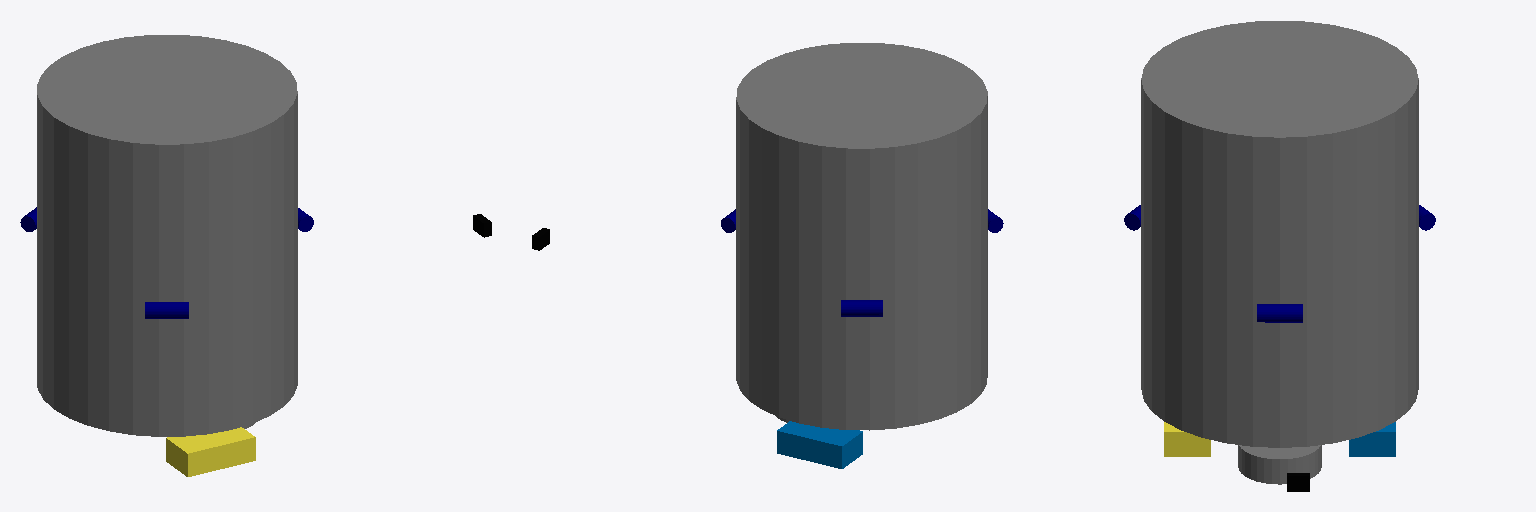
URDF robot description (cepheus):
<?xml version="1.0"?>
<robot name="cepheus">
 

  <link name="cepheus">
    <visual>
      <material name="silver"> <color rgba="0.5 0.5 0.5 1"/> </material>
      <geometry>
        <cylinder length="0.37" radius="0.15"/>
      </geometry>
      <origin xyz="0 0 0.245" rpy="0 0 0"/>
    </visual>
  </link>

  <link name="reaction_wheel">
    <visual>
      <material name="silver"> <color rgba="0.5 0.5 0.5 1"/> </material>
      <geometry>
        <cylinder length="0.03" radius="0.045"/>
      </geometry>
      <origin xyz="0 0 0.015" rpy="0 0 0"/>
    </visual>
  </link>

  <link name="camera">
    <visual>
      <material name="black"> <color rgba="0.02 0.02 0.02 1"/> </material>
      <geometry>
        <box size="0.018 0.0254 0.01 "/>
      </geometry>
      <origin xyz="0 0 -0.005" rpy="0 0 0"/>
    </visual>
  </link>

  <link name="right_mouse">
    <visual>
      <geometry>
        <box size="0.09 .05 .03"/>
      </geometry>
      <origin xyz="0 0 0.015" rpy="0 0 0"/>
    </visual>
    <inertial>
      <origin xyz="0 0 0.015" rpy="0 0 0"/>
      <mass value="15"/>
      <inertia ixx="0.04" ixy="0.0" ixz="0.0" iyy="0.04" iyz="0.0" izz="0.02"/>
    </inertial>
  </link>

  <link name="left_mouse">
    <visual>
      <geometry>
        <box size="0.09 .05 .03"/>
      </geometry>
      <origin xyz="0 0 0.015" rpy="0 0 0"/>
    </visual>
    <inertial>
      <origin xyz="0 0 0.015" rpy="0 0 0"/>
      <mass value="15"/>
      <inertia ixx="0.04" ixy="0.0" ixz="0.0" iyy="0.04" iyz="0.0" izz="0.02"/>
    </inertial>
  </link>

  <link name="T1">
    <visual>
      <material name="thruster"> <color rgba="0 0 0.5 1"/> </material>
      <geometry>
        <cylinder length="0.05" radius="0.01"/>
      </geometry>
      <origin xyz="0 0 0" rpy="0 1.57 0"/>
    </visual>
    <inertial>
      <origin xyz="0 0 0" rpy="0 0 0"/>
      <mass value="1"/>
      <inertia ixx="0.004" ixy="0.0" ixz="0.0" iyy="0.004" iyz="0.0" izz="0.002"/>
    </inertial>
  </link>

  <link name="T2">
    <visual>
      <material name="thruster"> <color rgba="0 0 0.5 1"/> </material>
      <geometry>
        <cylinder length="0.05" radius="0.01"/>
      </geometry>
      <origin xyz="0 0 0" rpy="0 1.57 0"/>
    </visual>
    <inertial>
      <origin xyz="0 0 0" rpy="0 0 0"/>
      <mass value="1"/>
      <inertia ixx="0.004" ixy="0.0" ixz="0.0" iyy="0.004" iyz="0.0" izz="0.002"/>
    </inertial>
  </link>

  <link name="T3">
    <visual>
      <material name="thruster"> <color rgba="0 0 0.5 1"/> </material>
      <geometry>
        <cylinder length="0.05" radius="0.01"/>
      </geometry>
      <origin xyz="0 0 0" rpy="0 1.57 0"/>
    </visual>
    <inertial>
      <origin xyz="0 0 0" rpy="0 0 0"/>
      <mass value="1"/>
      <inertia ixx="0.004" ixy="0.0" ixz="0.0" iyy="0.004" iyz="0.0" izz="0.002"/>
    </inertial>
  </link>



  <joint name="reaction_wheel_joint" type="continuous">
    <parent link="cepheus"/>
    <child link="reaction_wheel"/>
    <origin xyz="0.07 0 0" rpy="0 0 0"/>
    <axis xyz="0 0 1" /> 
    <!--limit effort="10" velocity="200.5"/-->
  </joint>

  <joint name="camera_joint" type="fixed">
    <parent link="cepheus"/>
    <child link="camera"/>
    <origin xyz="0.434 0.02025 0.1495" rpy="0 1.570796 0"/>
  </joint>

  <joint name="r_odom" type="fixed">
    <parent link="cepheus"/>
    <child link="right_mouse"/>
    <origin xyz="0 -0.1 0" rpy="0 0 0"/>
  </joint>

  <joint name="l_odom" type="fixed">
    <parent link="cepheus"/>
    <child link="left_mouse"/>
    <origin xyz="0 0.1 0" rpy="0 0 0"/>
  </joint>



  <joint name="j_T1" type="fixed">
    <parent link="cepheus"/>
    <child link="T1"/>
    <origin xyz="-0.085 0.147224319 0.23" rpy="0 0 0.523598776"/>
  </joint>

  <joint name="j_T2" type="fixed">
    <parent link="cepheus"/>
    <child link="T2"/>
    <origin xyz="0.17 0 0.23" rpy="0 0 -1.570796327"/>
  </joint>

  <joint name="j_T3" type="fixed">
    <parent link="cepheus"/>
    <child link="T3"/>
    <origin xyz="-0.085 -0.147224319 0.23" rpy="0 0 -0.523598776"/>
  </joint>
  
</robot>

--- Facts derived from the render (not from the file) ---
3 views of the same robot in one strip: view 1: azimuth 30°, elevation 25°; view 2: azimuth 150°, elevation 25°; view 3: azimuth 270°, elevation 25° (orthographic).
Robot: cepheus — 8 links, 7 joints (1 continuous, 6 fixed); root link cepheus; default pose: every joint at zero.
Links seen in each view (by area): view 1: cepheus, right_mouse, T3; view 2: cepheus, left_mouse, T1; view 3: cepheus, reaction_wheel, right_mouse, left_mouse, T2.
Link boxes in pixels (left/top/right/bottom): cepheus: left=37, top=35, right=297, bottom=436; right_mouse: left=166, top=427, right=255, bottom=476; T3: left=145, top=302, right=188, bottom=318; cepheus: left=736, top=43, right=987, bottom=430; left_mouse: left=777, top=421, right=862, bottom=468; T1: left=841, top=300, right=882, bottom=316; cepheus: left=1141, top=21, right=1418, bottom=447; reaction_wheel: left=1238, top=445, right=1321, bottom=484; right_mouse: left=1164, top=422, right=1210, bottom=456; left_mouse: left=1349, top=422, right=1395, bottom=456; T2: left=1257, top=304, right=1302, bottom=322.
Size in the robot's own frame: 0.584 by 0.3368 by 0.43 metres.
Geometry: primitives only (box / cylinder / sphere), no mesh files.
